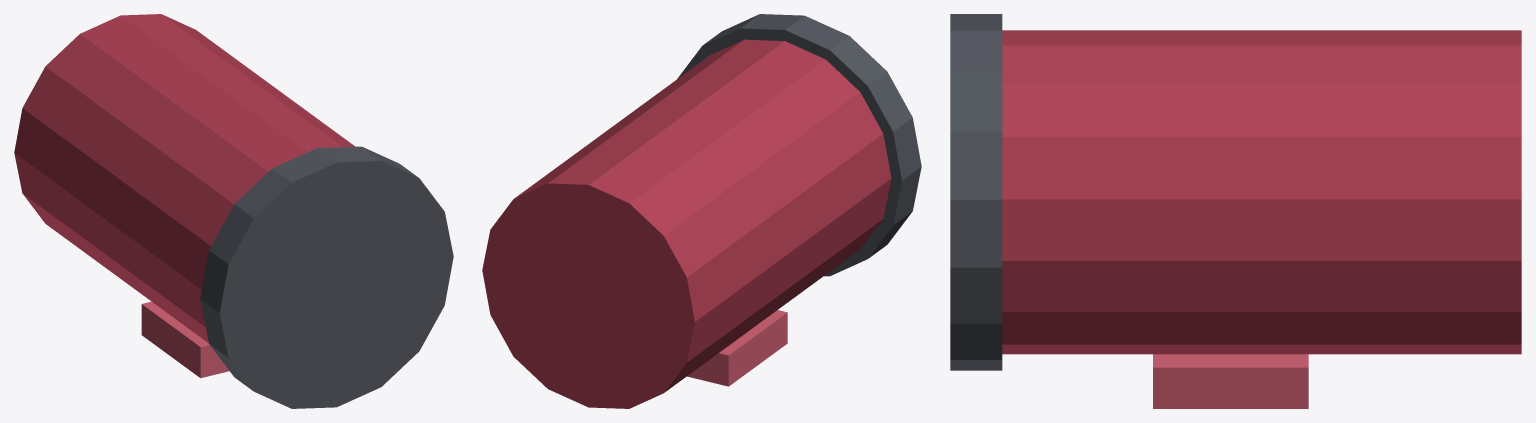
The model's file is recycling_bin_v01.glb.
The picture shows the model from 3 angles, left to right: view 1: azimuth 30°, elevation 25°; view 2: azimuth 150°, elevation 25°; view 3: azimuth 270°, elevation 25°; orthographic projection. The views are drawn at different scales.
Parts seen in each view (by area): view 1: cylinder_0, cylinder_1, box_2; view 2: cylinder_0, cylinder_1, box_2; view 3: cylinder_0, cylinder_1, box_2.
Part boxes in pixels (x1=…): cylinder_0: x1=14, y1=14, x2=354, y2=343; cylinder_1: x1=200, y1=146, x2=453, y2=408; box_2: x1=141, y1=301, x2=229, y2=378; cylinder_0: x1=482, y1=39, x2=891, y2=408; cylinder_1: x1=677, y1=14, x2=921, y2=276; box_2: x1=687, y1=310, x2=787, y2=386; cylinder_0: x1=1002, y1=30, x2=1521, y2=354; cylinder_1: x1=950, y1=14, x2=1002, y2=370; box_2: x1=1153, y1=354, x2=1308, y2=408.
Size of the model in its own units: 0.55 by 0.578 by 0.88.
